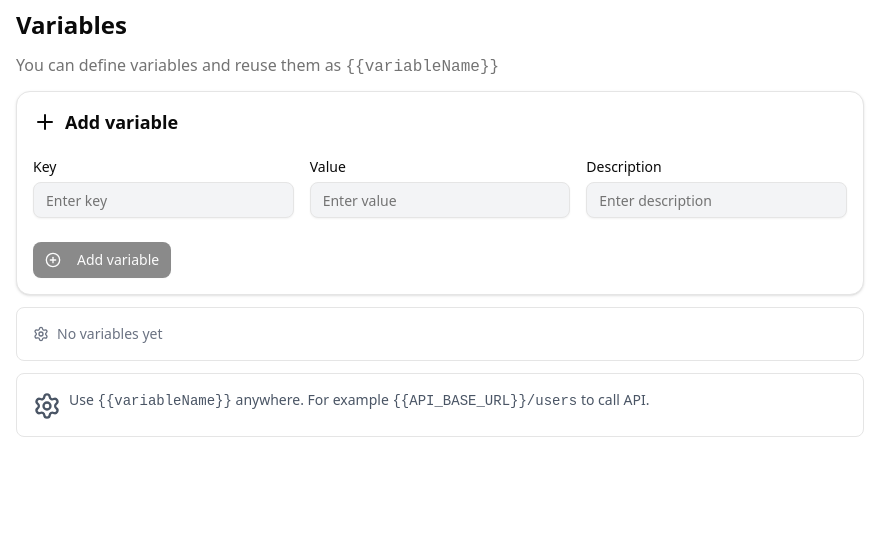
Test case: VariablesPage › edit variables
Type "A" into the field labelled "Key". click: (163, 200)
box: [33,182,294,218]
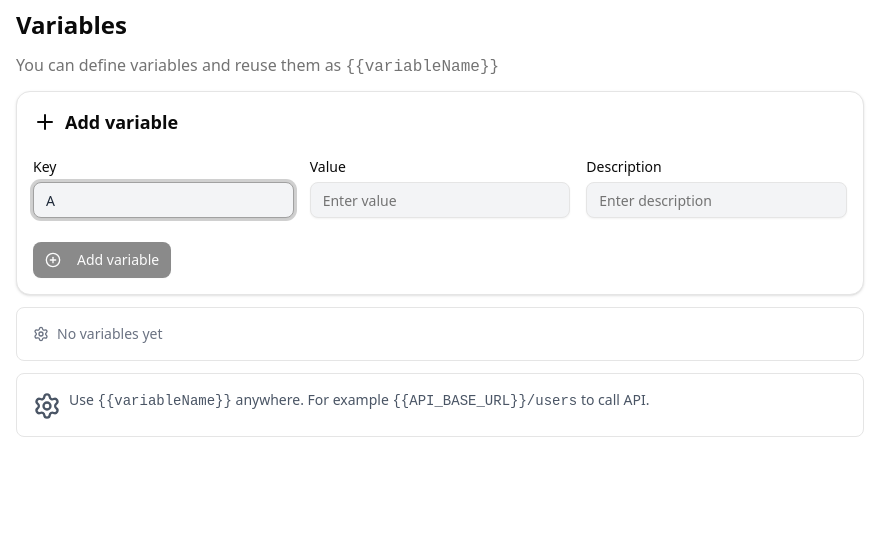
Type "1" into the field labelled "Value". click: (440, 200)
box: [310,182,570,218]
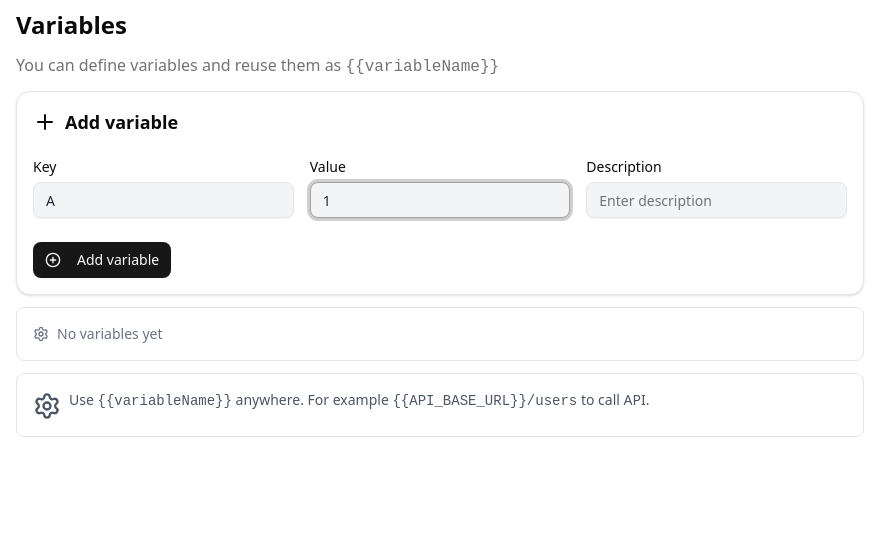
Type "test" into the field labelled "Description". click: (717, 200)
box: [586,182,847,218]
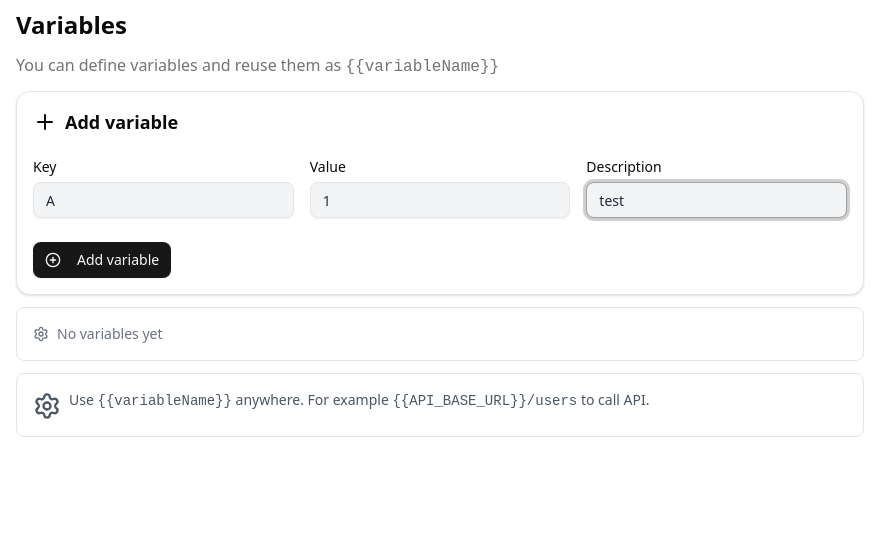
Click the button "Add variable". click: click(102, 260)
box: [33,242,171,278]
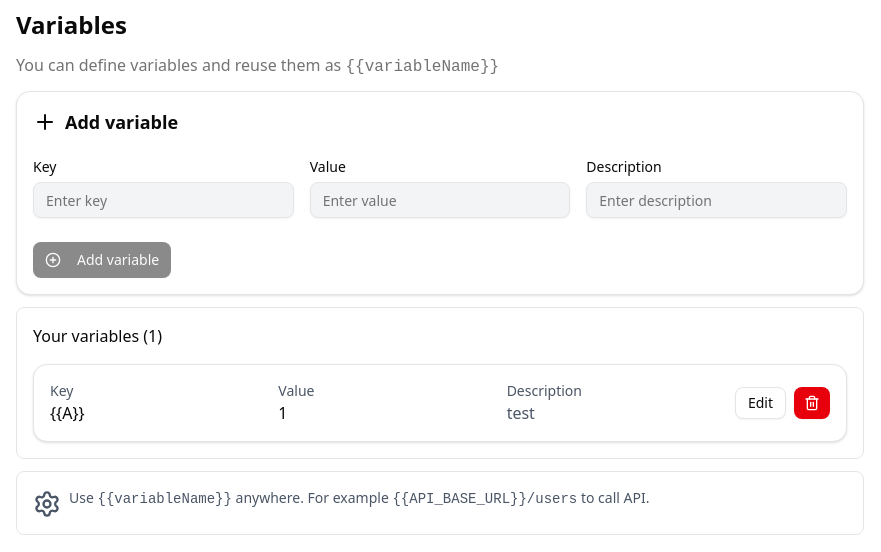
Click the button "Edit". click: click(760, 403)
box: [735,387,786,419]
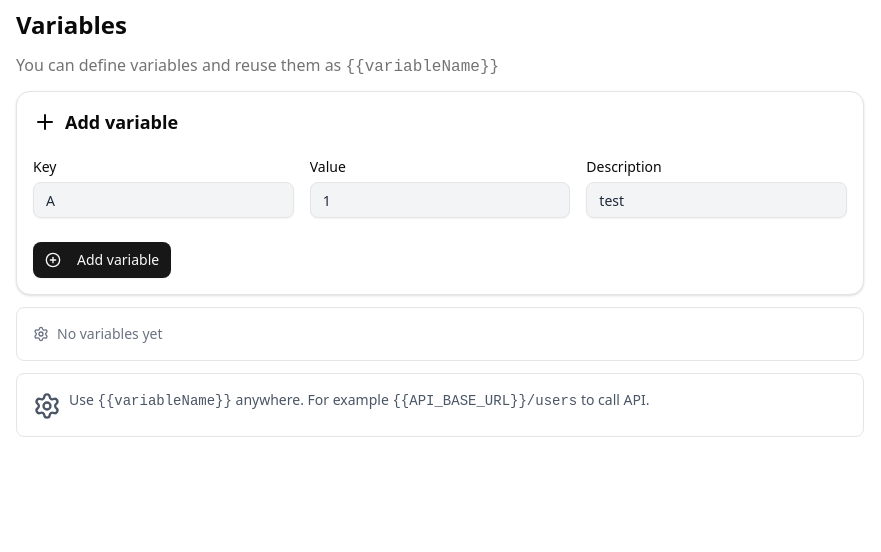
Expected: the text "{{A}}" is gone
